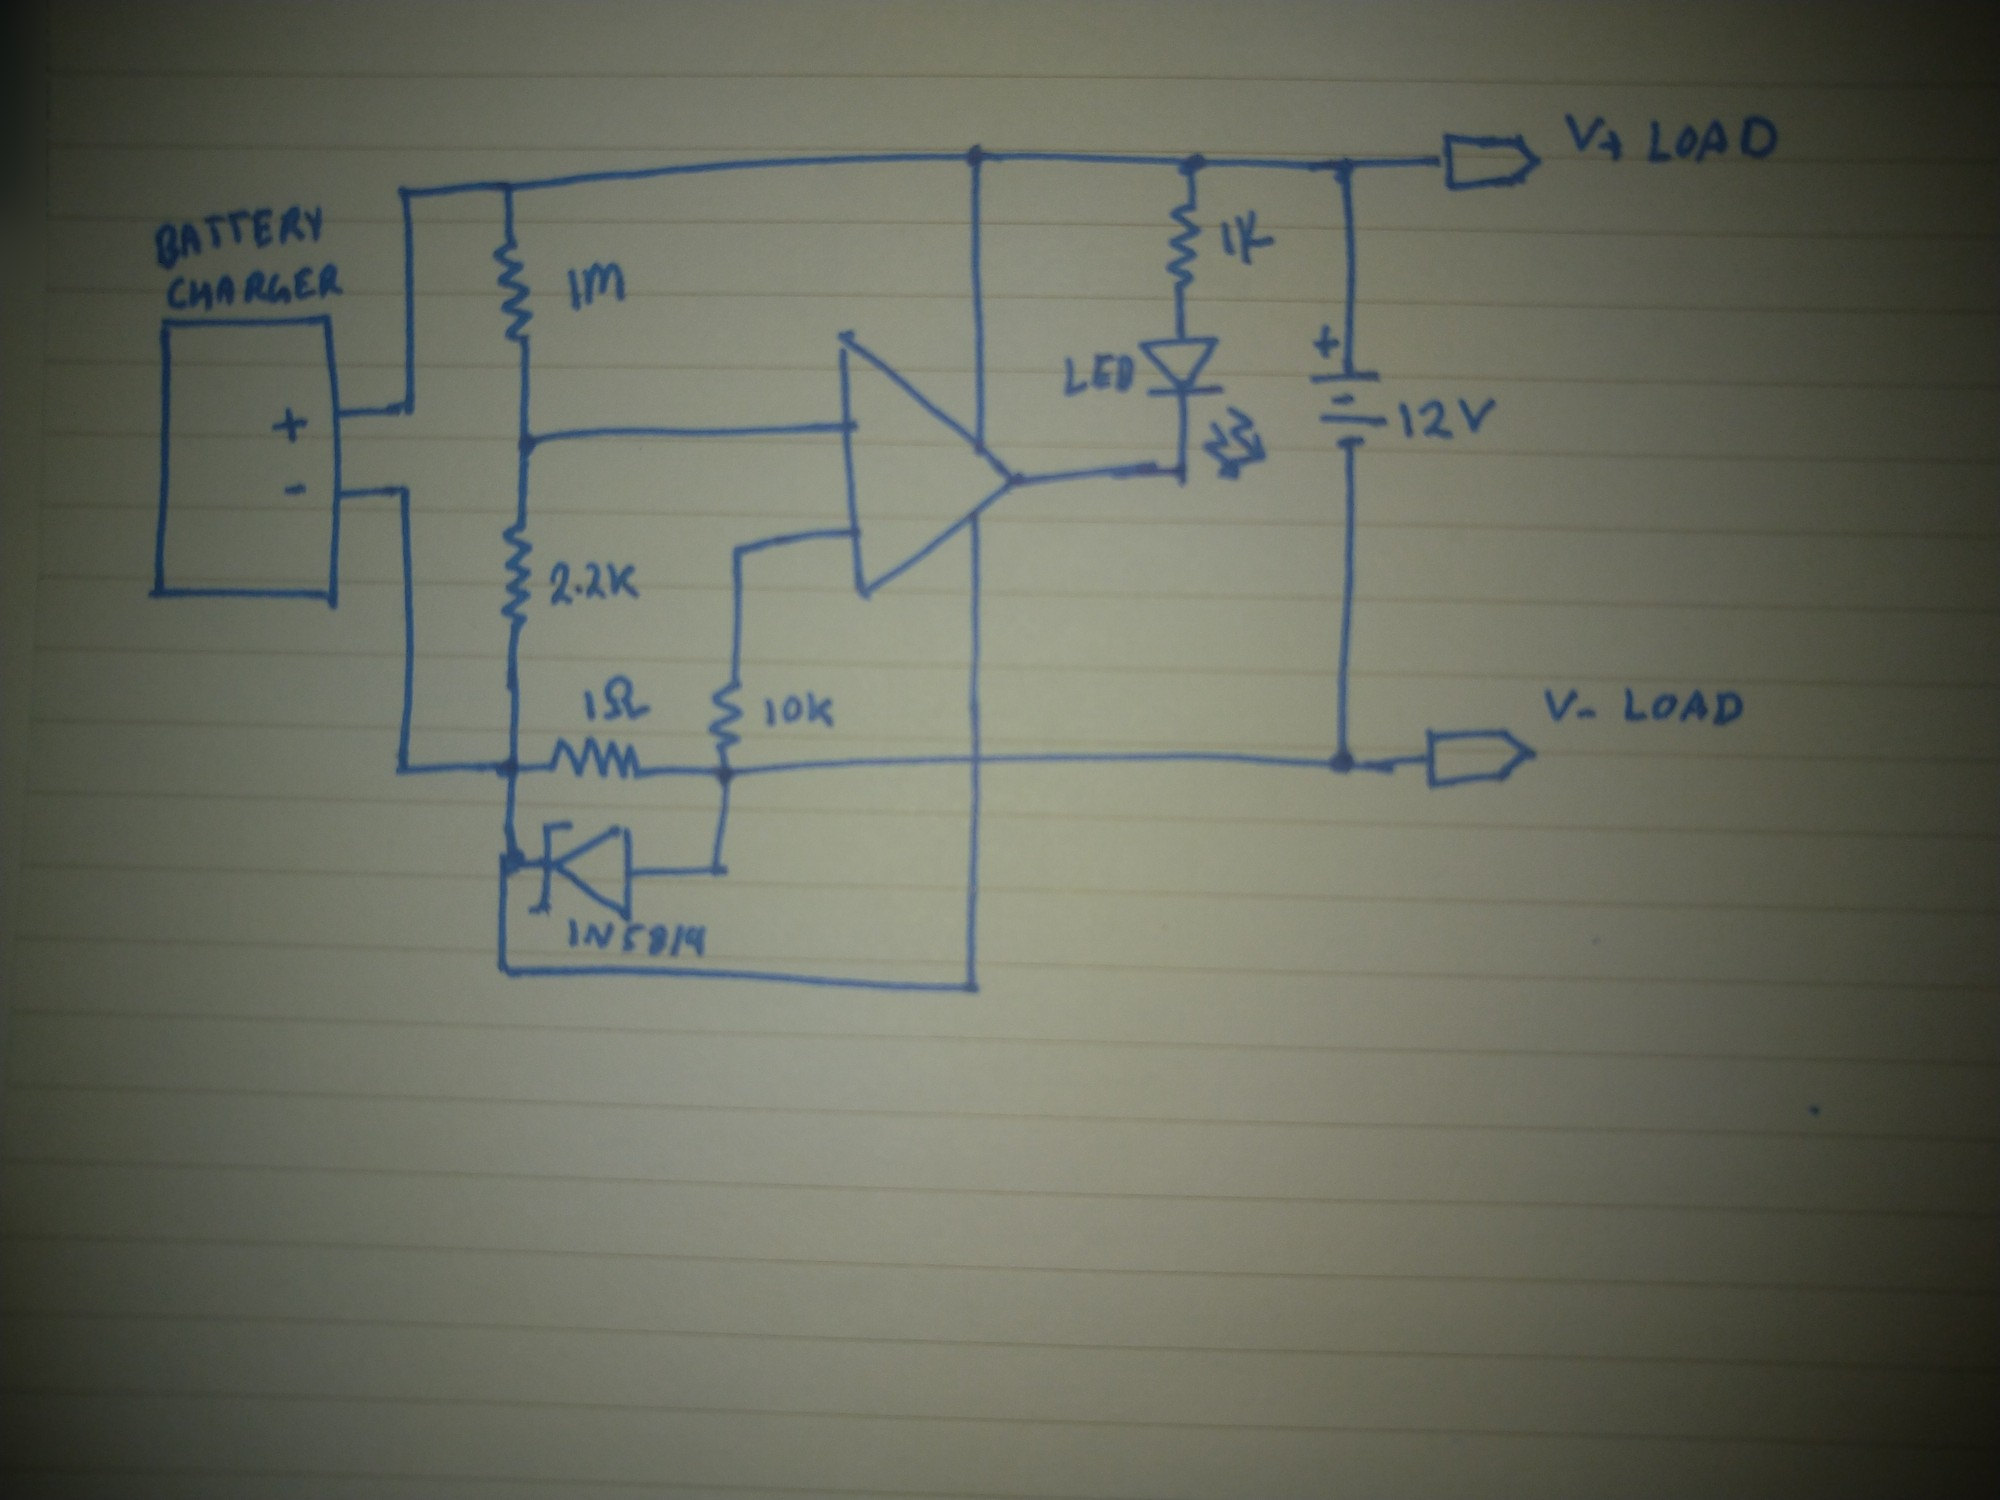crossover: (954, 742, 997, 775)
diode: (526, 815, 636, 926)
diode.light_emitting: (1139, 332, 1272, 481)
junction: (1318, 736, 1365, 785), (1321, 148, 1365, 189), (491, 838, 532, 882), (1170, 147, 1209, 183), (1165, 454, 1202, 492), (510, 425, 546, 462), (494, 172, 534, 205), (496, 752, 532, 786), (387, 178, 427, 208), (706, 759, 743, 789), (386, 474, 424, 504), (954, 967, 987, 1001), (387, 753, 420, 786), (391, 389, 425, 421), (959, 139, 991, 172), (724, 537, 756, 566), (488, 958, 520, 986), (704, 852, 731, 882)
operational_amplifier: (827, 325, 1024, 600)
resistor: (490, 235, 545, 347), (546, 734, 646, 789), (498, 518, 535, 632), (1161, 195, 1202, 296), (704, 679, 750, 758)
terminal: (1420, 723, 1542, 793), (1433, 128, 1546, 195)
text: (1559, 109, 1784, 172), (148, 205, 326, 271), (1540, 678, 1746, 733), (164, 262, 346, 314), (561, 911, 712, 963), (1395, 392, 1507, 444), (546, 555, 646, 611), (576, 670, 657, 730), (1054, 350, 1139, 400), (757, 685, 843, 736), (1216, 203, 1279, 266), (561, 258, 628, 310)
voltage.dc: (146, 310, 350, 614), (1304, 366, 1391, 462)
